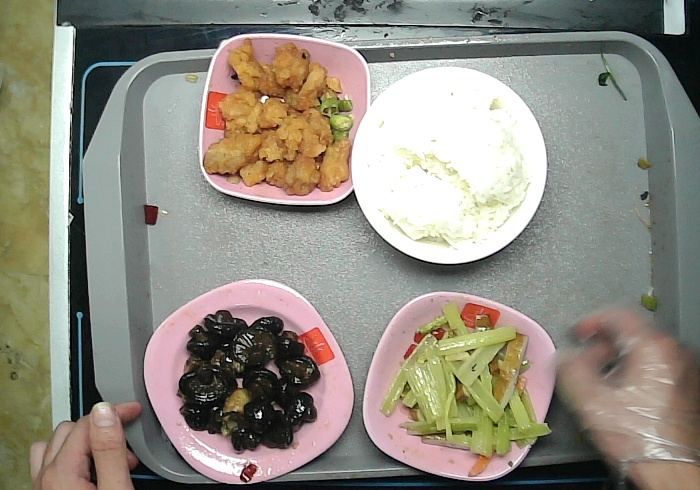SHKJ-Fan_Wan: (349, 63, 550, 267)
SHKJ-Fen_Se_Cai_Die: (363, 290, 558, 479)
SHKJ-Fen_Se_Si_Fang_Cai_Die: (141, 277, 356, 486)
SHKJ-Fen_Se_Xiao_Fang_Die: (198, 33, 374, 209)
